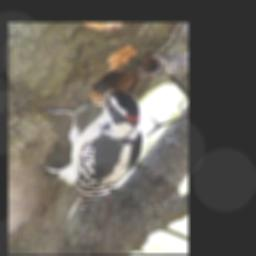Woodpecker: (44, 84, 142, 217)
